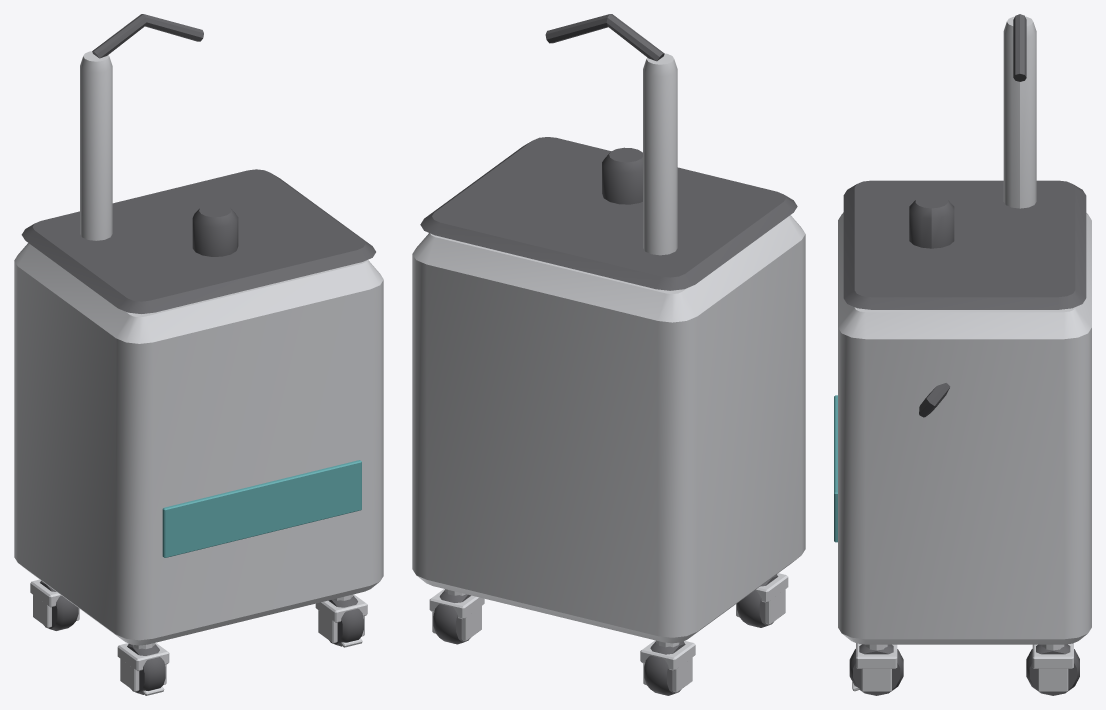
File: fast-food-and-drive-thru-oil-disposal-trolley-dbad64ae__16145.glb
3 renders of one model, left to right at view 1: azimuth 30°, elevation 25°; view 2: azimuth 150°, elevation 25°; view 3: azimuth 270°, elevation 25°, orthographic. The views are drawn at different scales.
Parts seen in each view (by area): view 1: oil-disposal-trolley, oil-lid; view 2: oil-disposal-trolley, oil-lid; view 3: oil-disposal-trolley, oil-lid.
Part boxes in pixels (<box>): oil-disposal-trolley: <box>14,14,383,695</box>; oil-lid: <box>21,169,375,313</box>; oil-disposal-trolley: <box>412,14,805,695</box>; oil-lid: <box>420,137,797,290</box>; oil-disposal-trolley: <box>834,14,1091,695</box>; oil-lid: <box>843,180,1086,309</box>.
Bounding box in the file's own units: 0.5822 × 1.23 × 0.467.
